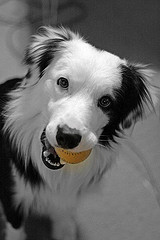tennis ball: (53, 144, 93, 165)
